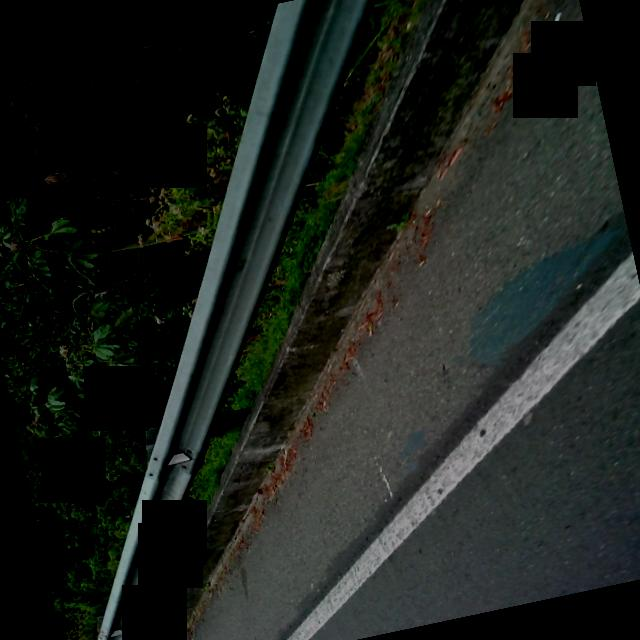DITCH: (10, 0, 640, 640), (22, 0, 640, 640), (37, 0, 640, 640)
